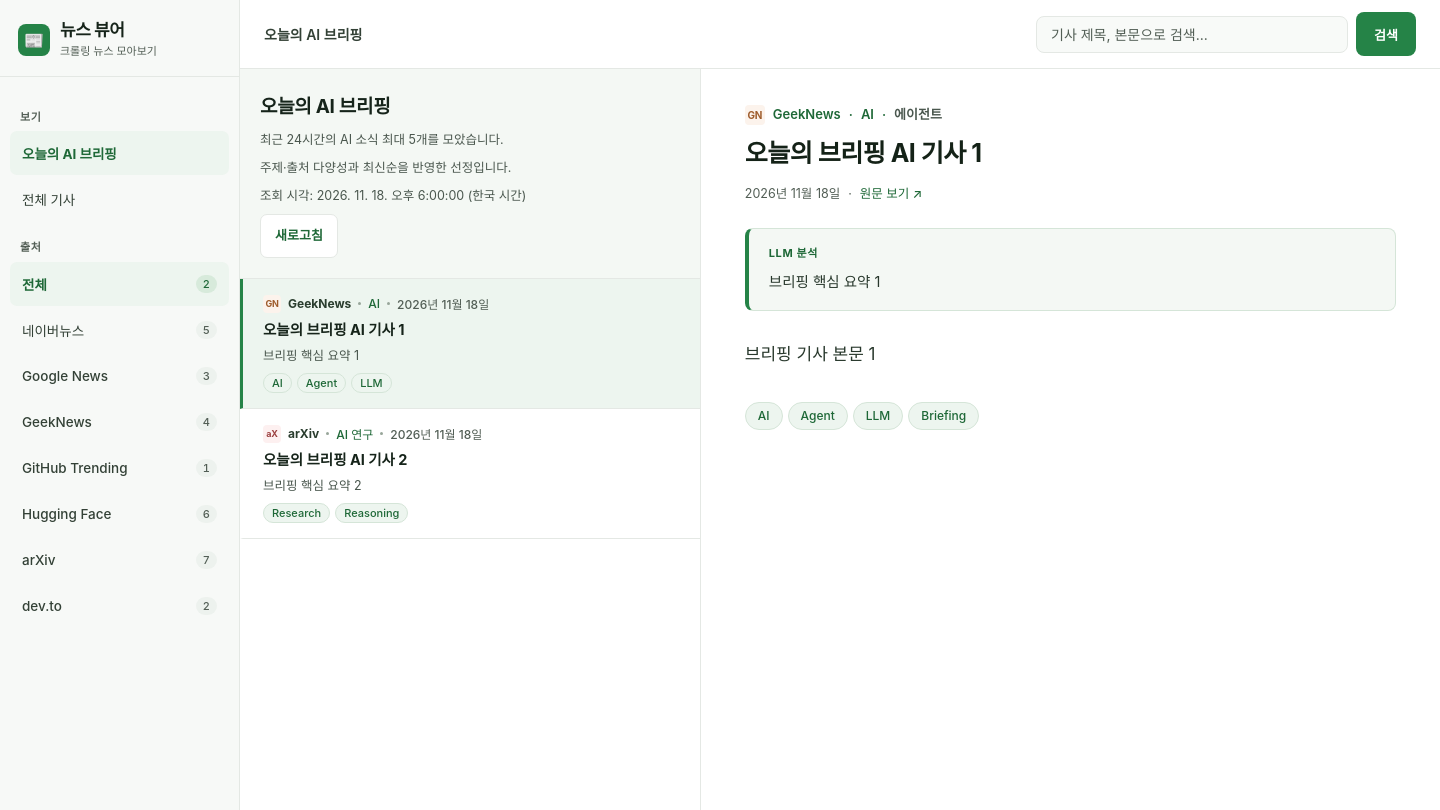
Test case: 뉴스 뷰어 전체 화면 사용자 시나리오 › 검색어는 입력 중에는 조회하지 않고 제출할 때만 전체 기사 보기 1페이지로 조회하며 결과가 없으면 검색어 초기화 버튼으로 복구한다
Expected: the heading "오늘의 브리핑 AI 기사 1" is shown, top-left (745, 138), bottom-right (982, 168)
Type "없는키워드" into the field with placeholder "기사 제목, 본문으로 검색..." at x=1192, y=34, box top-left (1036, 16), bottom-right (1348, 52)
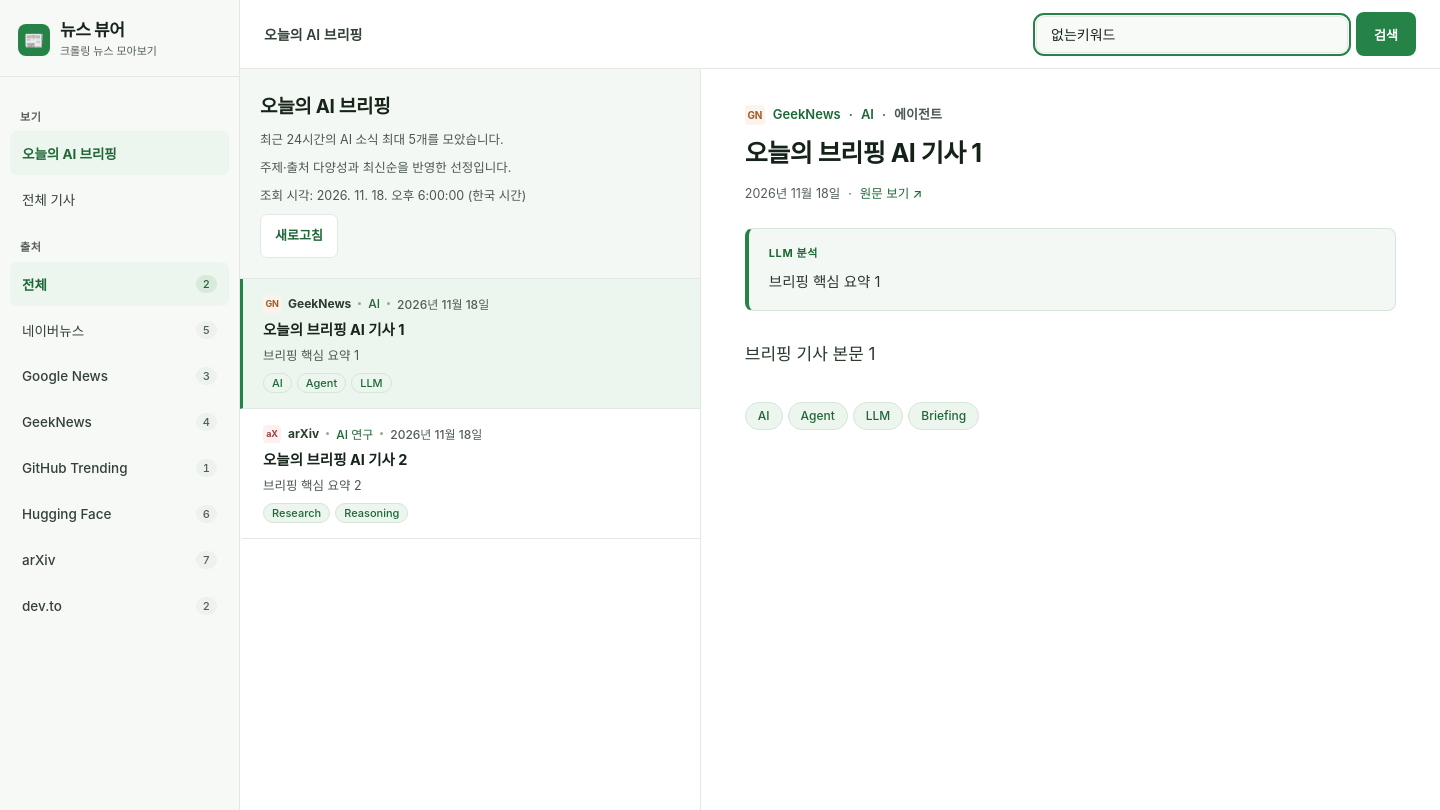
Click the button "검색" at x=1386, y=34, box top-left (1356, 12), bottom-right (1416, 56)
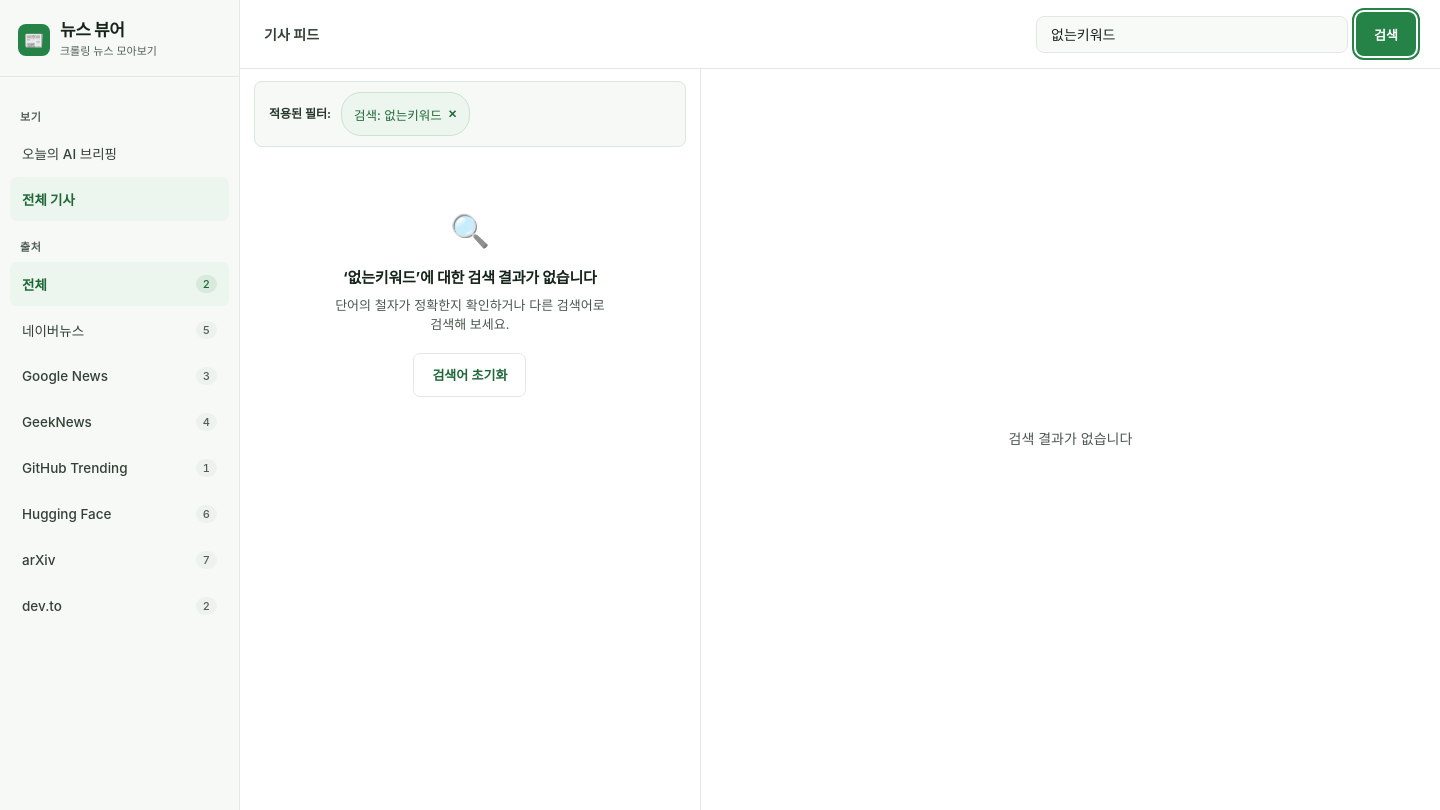
Expected: the text "‘없는키워드’에 대한 검색 결과가 없습니다" is shown, top-left (343, 267), bottom-right (597, 290)
Expected: the text "단어의 철자가 정확한지 확인하거나 다른 검색어로 검색해 보세요." is shown, top-left (330, 296), bottom-right (610, 334)
Expected: the text "검색 결과가 없습니다" is shown, top-left (1008, 428), bottom-right (1132, 451)
Click the button "검색어 초기화" at x=470, y=374, box top-left (413, 352), bottom-right (526, 396)
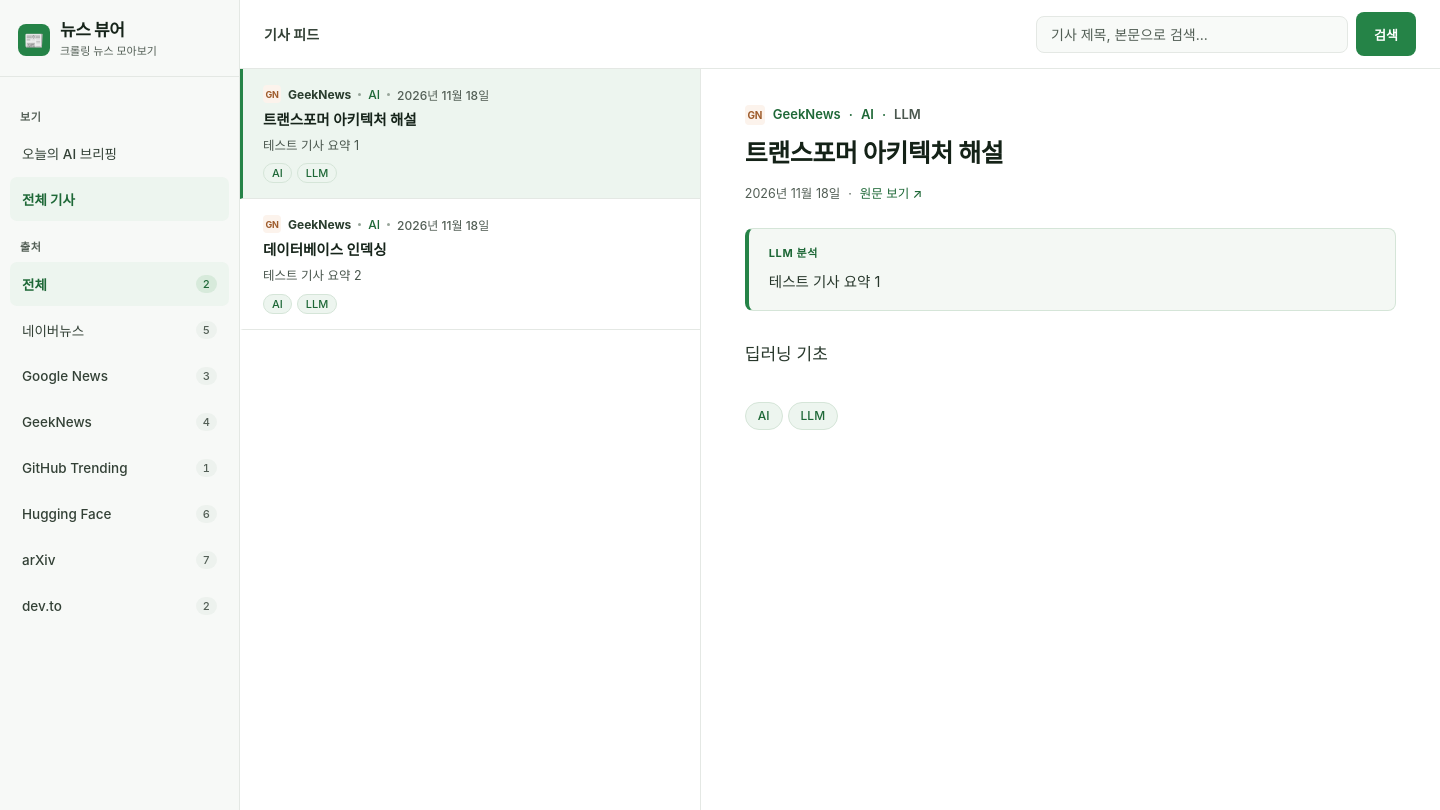
Expected: the text "트랜스포머 아키텍처 해설" is shown, top-left (263, 111), bottom-right (417, 128)
Expected: the field with placeholder "기사 제목, 본문으로 검색..." is empty
Expected: the text "데이터베이스 인덱싱" is shown, top-left (263, 241), bottom-right (386, 258)
Type "임시" into the field with placeholder "기사 제목, 본문으로 검색..." at x=1192, y=34, box top-left (1036, 16), bottom-right (1348, 52)
Then press Enter
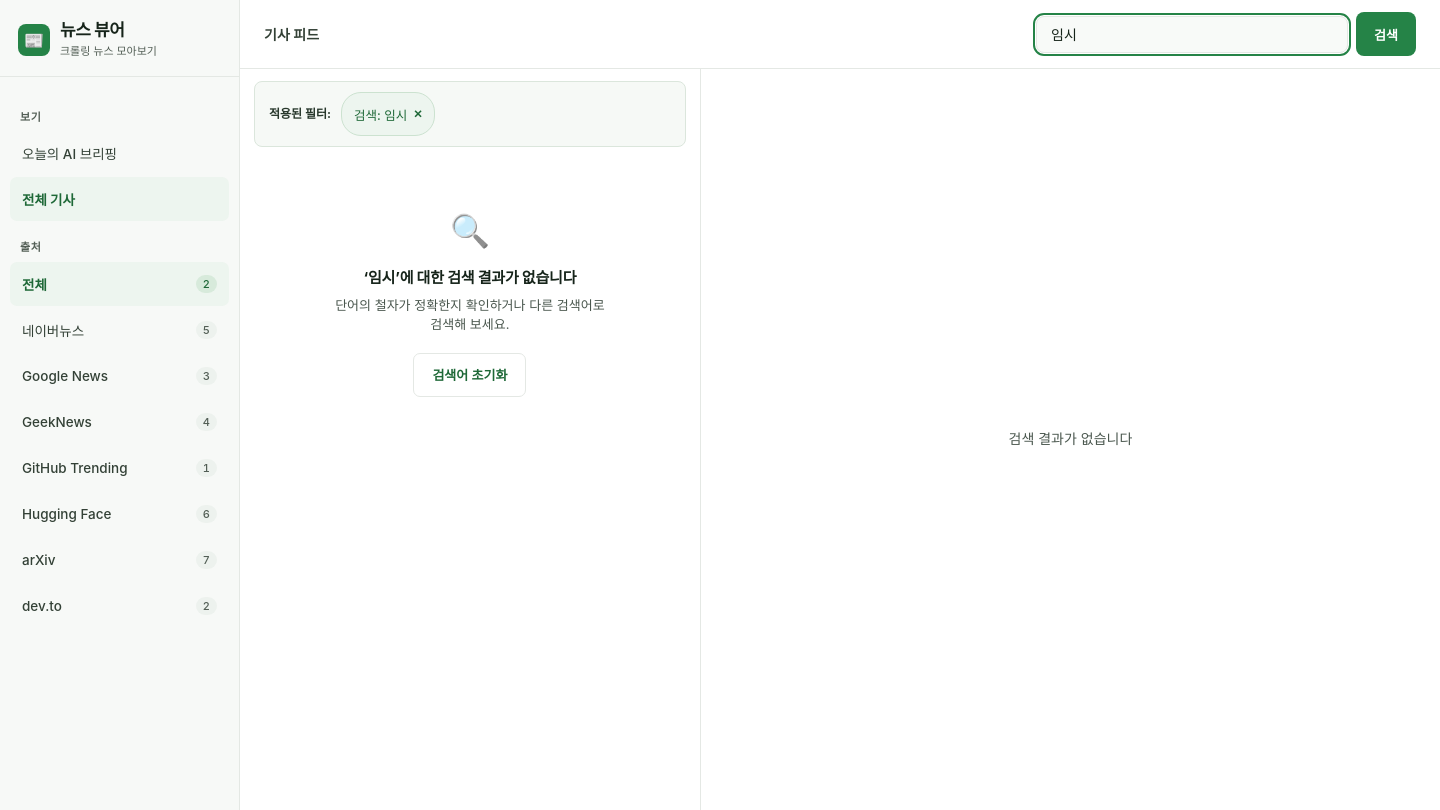
Expected: the text "‘임시’에 대한 검색 결과가 없습니다" is shown, top-left (364, 267), bottom-right (576, 290)
Click the button "검색어 초기화" at x=470, y=374, box top-left (413, 352), bottom-right (526, 396)
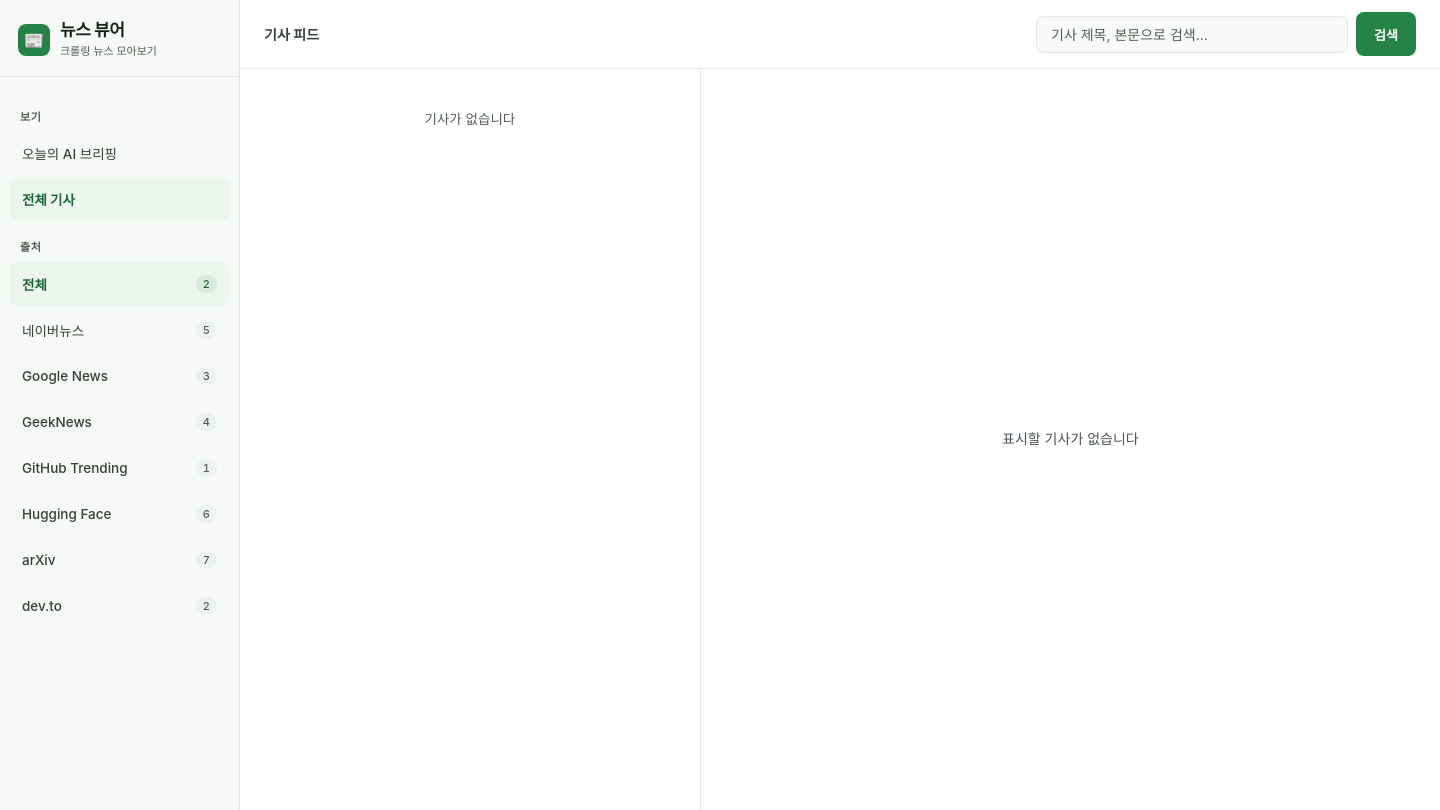
Expected: the text "기사가 없습니다" is shown, top-left (424, 111), bottom-right (515, 127)
Expected: the text "표시할 기사가 없습니다" is shown, top-left (1002, 428), bottom-right (1139, 451)
